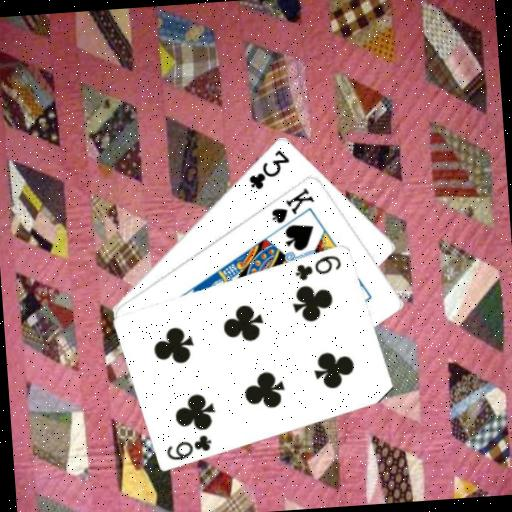3C: (244, 145, 294, 192)
6C: (291, 251, 344, 283), (163, 430, 215, 462)
KS: (266, 184, 318, 226)
